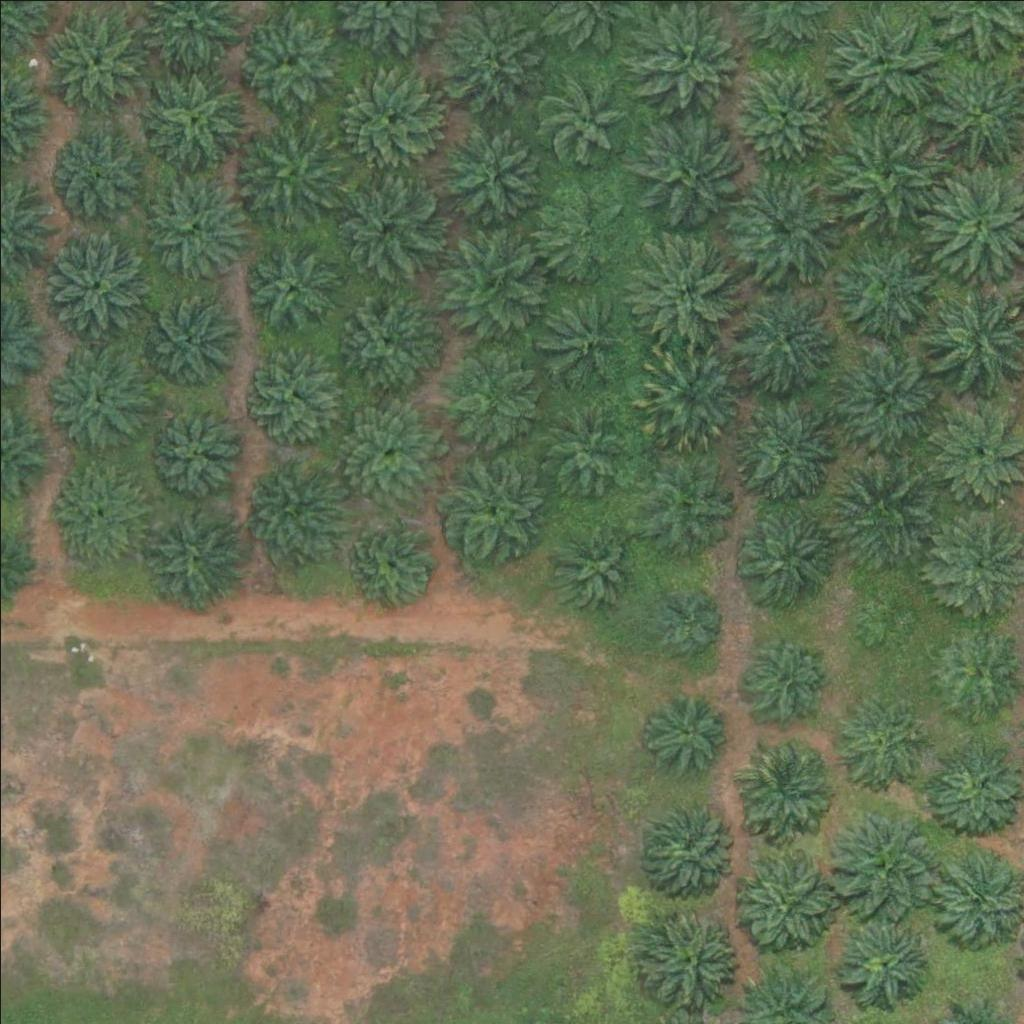Kelapa_Sawit: (728, 846, 841, 960), (830, 807, 943, 921), (330, 393, 443, 507), (326, 281, 439, 395), (229, 117, 342, 231), (137, 60, 250, 174), (632, 338, 745, 451), (729, 497, 842, 610), (628, 234, 741, 347), (633, 117, 746, 230), (140, 167, 252, 281), (729, 389, 841, 502), (828, 460, 940, 573), (830, 338, 942, 451), (832, 231, 944, 344), (833, 115, 945, 228), (825, 1, 937, 114), (730, 168, 842, 281), (429, 224, 541, 337), (431, 116, 543, 229), (327, 167, 439, 280), (136, 497, 248, 610), (36, 227, 148, 340), (639, 909, 739, 1010), (637, 453, 737, 554), (826, 690, 926, 791), (736, 288, 836, 389), (733, 65, 833, 166), (435, 4, 535, 105), (337, 68, 437, 169), (240, 454, 340, 555), (235, 11, 335, 112), (139, 395, 239, 496), (137, 289, 237, 390), (46, 457, 146, 558), (44, 351, 144, 452), (836, 911, 936, 1011), (637, 796, 737, 896), (736, 736, 836, 836), (444, 455, 544, 555), (431, 345, 531, 445), (240, 346, 340, 446), (237, 235, 337, 335), (45, 124, 145, 224), (43, 7, 143, 107), (644, 684, 732, 772), (549, 522, 637, 610), (538, 292, 626, 380), (534, 402, 621, 490), (743, 632, 830, 720), (535, 188, 622, 276), (540, 74, 627, 162), (349, 519, 436, 607), (656, 589, 719, 652), (855, 586, 917, 649)
